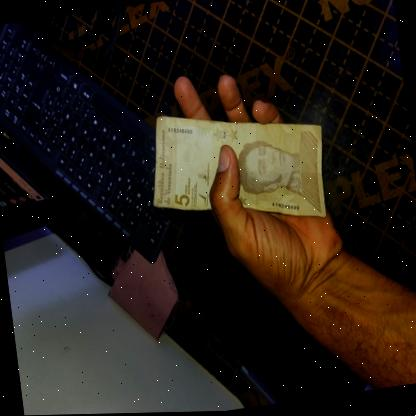five-front-vef: (140, 94, 333, 243)
